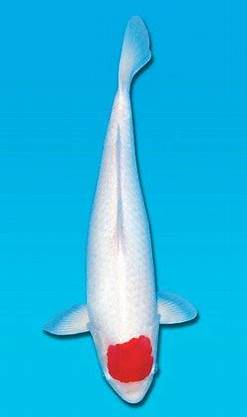sun: (44, 15, 199, 405)
